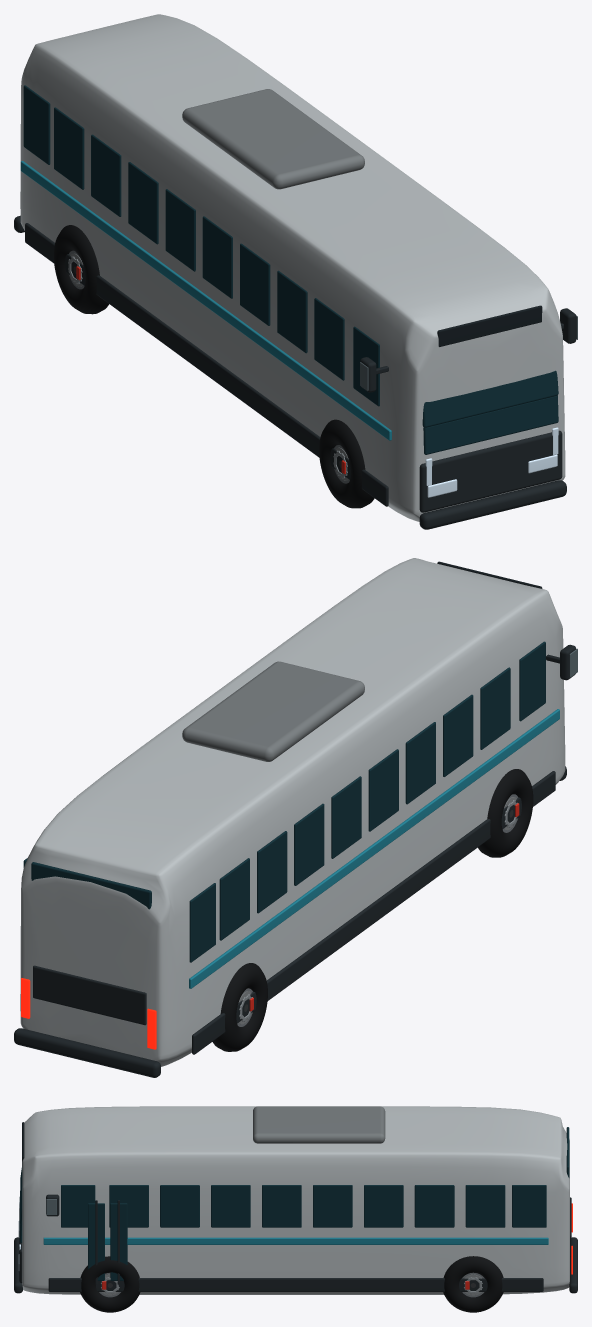
File: traffic_city_bus_modern.fbx
The picture shows the model from 3 angles, top to bottom: view 1: azimuth 30°, elevation 25°; view 2: azimuth 150°, elevation 25°; view 3: azimuth 270°, elevation 25°; orthographic projection. The views are drawn at different scales.
Parts seen in each view (by area): view 1: Bus_MainBody, Bus_RoofEquipment, Bus_LowerSkirt_-1, Bus_LowerFront, Bus_BlueBelt_-1, Bus_LowerWindshield, Bus_FrontWindshield, Wheel_FL_Tire.003, Wheel_RL_Tire.003, Bus_FrontBumper, Bus_Window_L_03, Bus_Window_L_06 (+9 smaller); view 2: Bus_MainBody, Bus_RoofEquipment, Bus_LowerSkirt_-1, Bus_BlueBelt_-1, Bus_RearVent, Wheel_RL_Tire.003, Wheel_FL_Tire.003, Bus_RearBumper, Bus_Window_L_05, Bus_Window_L_09, Bus_Window_L_02, Bus_Window_L_03 (+7 smaller); view 3: Bus_MainBody, Bus_LowerSkirt_+1, Bus_RoofEquipment, Bus_BlueBelt_+1, Wheel_RR_Tire.003, Wheel_FR_Tire.003, Bus_Window_R_09, Bus_Window_R_08, Bus_Window_R_03, Bus_Window_R_04, Bus_Window_R_05, Bus_Window_R_06 (+8 smaller).
Part boxes in pixels (x1,y1,x2,y2): Bus_MainBody: (20,14,565,521); Bus_RoofEquipment: (182,89,364,189); Bus_LowerSkirt_-1: (25,223,388,506); Bus_LowerFront: (419,430,562,512); Bus_BlueBelt_-1: (20,161,391,440); Bus_LowerWindshield: (423,395,558,454); Bus_FrontWindshield: (422,370,558,427); Wheel_FL_Tire.003: (319,419,374,508); Wheel_RL_Tire.003: (53,225,108,314); Bus_FrontBumper: (419,480,566,529); Bus_Window_L_03: (277,270,307,353); Bus_Window_L_06: (165,189,195,271); Bus_MainBody: (20,558,565,1066); Bus_RoofEquipment: (182,661,364,761); Bus_LowerSkirt_-1: (192,771,555,1054); Bus_BlueBelt_-1: (189,709,559,988); Bus_RearVent: (33,965,146,1025); Wheel_RL_Tire.003: (212,963,267,1051); Wheel_FL_Tire.003: (478,769,533,857); Bus_RearBumper: (14,1028,160,1077); Bus_Window_L_05: (368,749,398,831); Bus_Window_L_09: (219,858,249,940); Bus_Window_L_02: (480,667,510,749); Bus_Window_L_03: (443,694,473,776); Bus_MainBody: (22,1106,569,1294); Bus_LowerSkirt_+1: (48,1278,543,1291); Bus_RoofEquipment: (253,1106,385,1143); Bus_BlueBelt_+1: (43,1237,548,1244); Wheel_RR_Tire.003: (443,1256,503,1312); Wheel_FR_Tire.003: (80,1256,140,1312); Bus_Window_R_09: (465,1185,505,1227); Bus_Window_R_08: (414,1185,454,1227); Bus_Window_R_03: (160,1185,199,1227); Bus_Window_R_04: (211,1185,250,1227); Bus_Window_R_05: (262,1185,301,1227); Bus_Window_R_06: (313,1185,352,1227).
Bounding box in the file's own units: 3.27 × 3.6 × 11.07.
